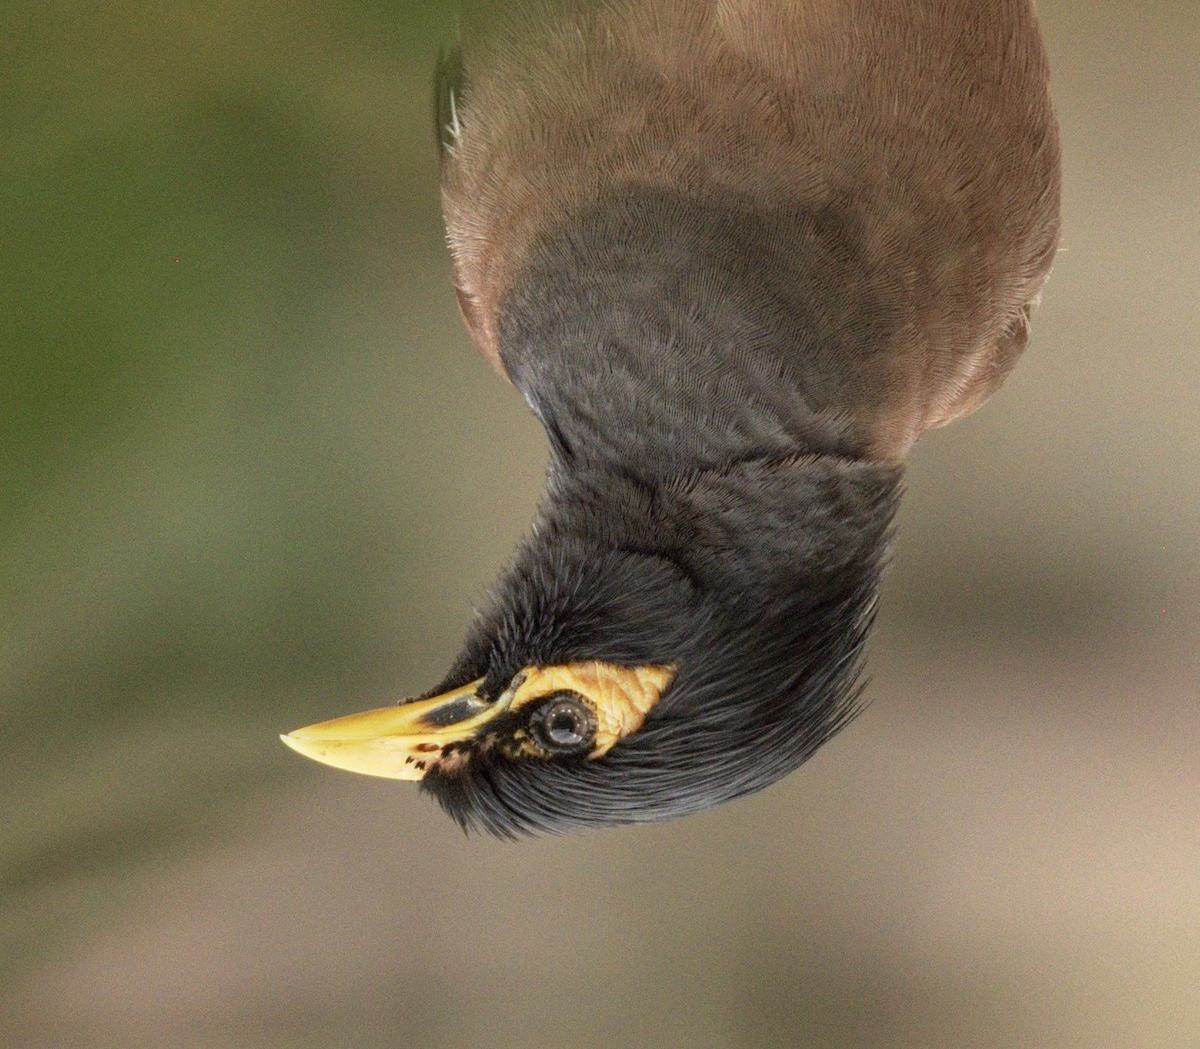myna: (238, 1, 1029, 883)
